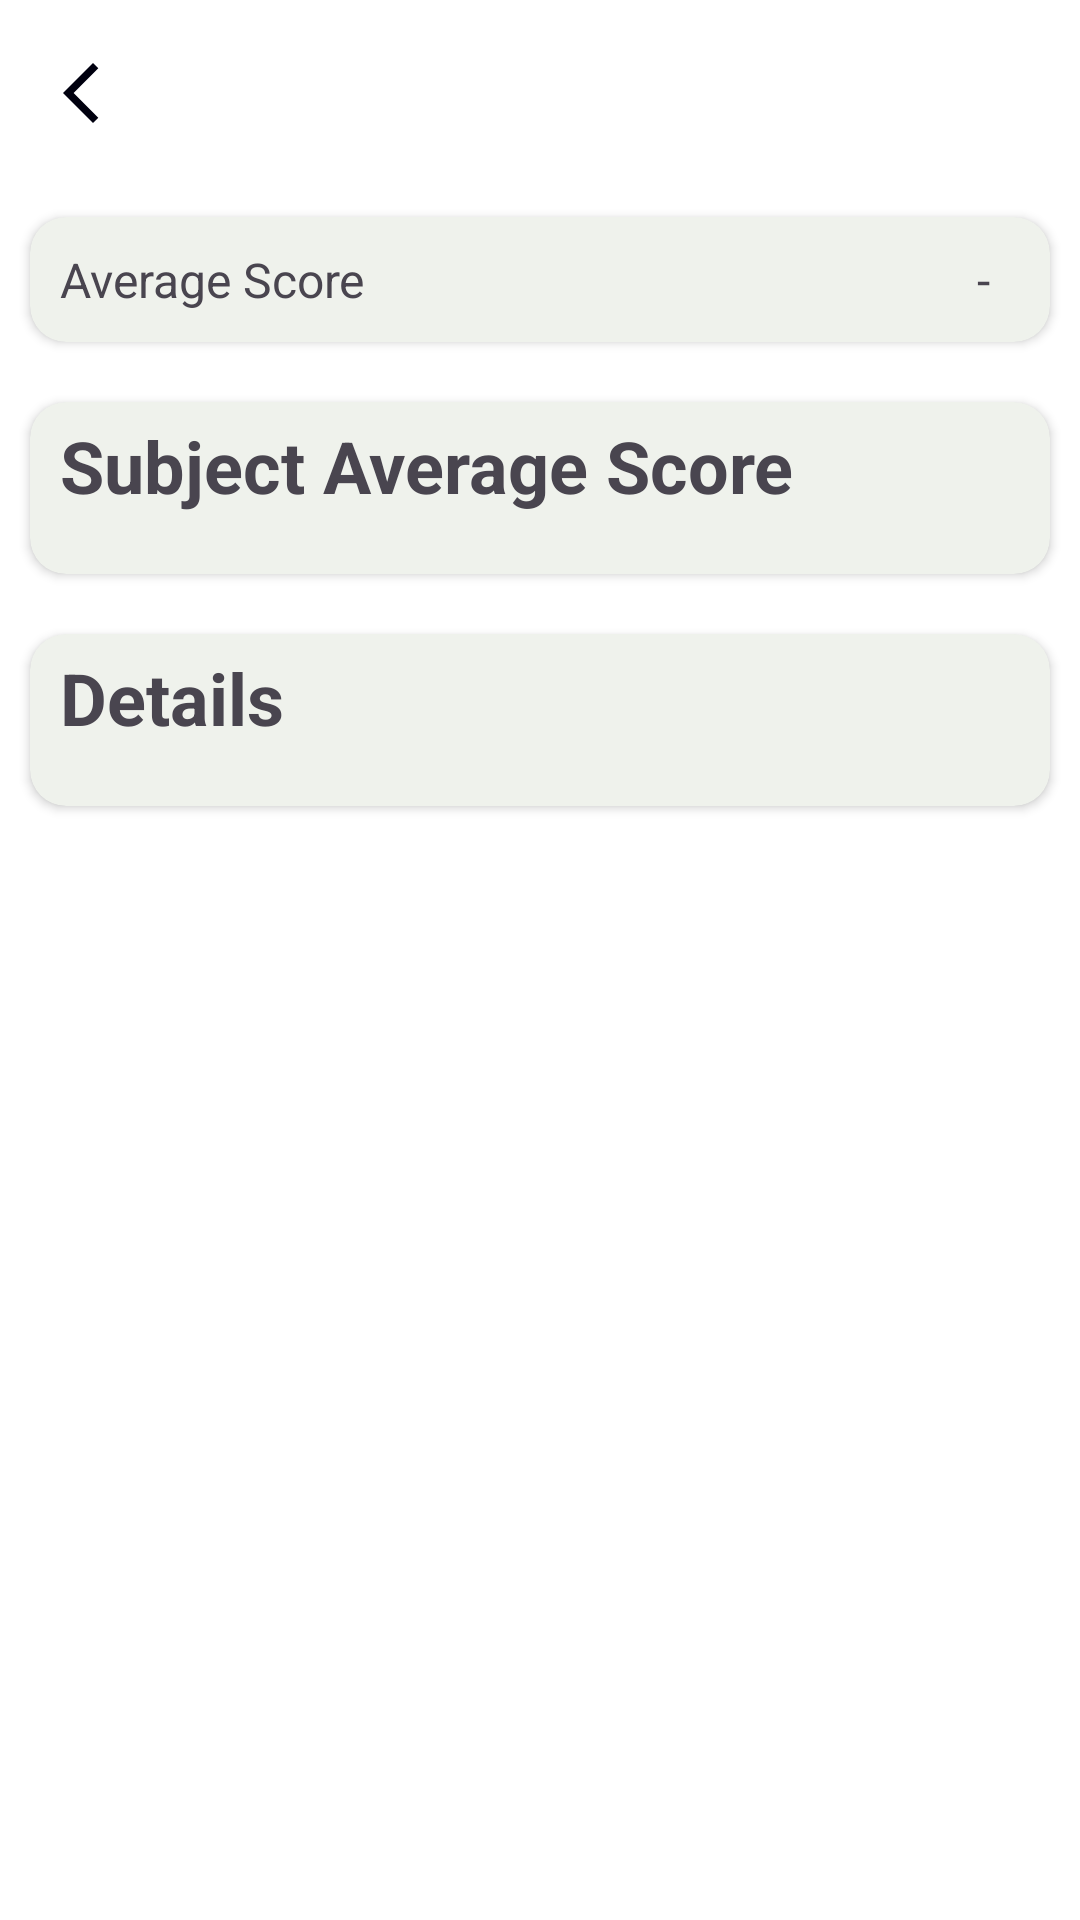

Locate icon controls on the screen. Image size 1080 × 1920, boxes as (x1, y1, x2, y2).
back: (63, 63, 98, 123)
